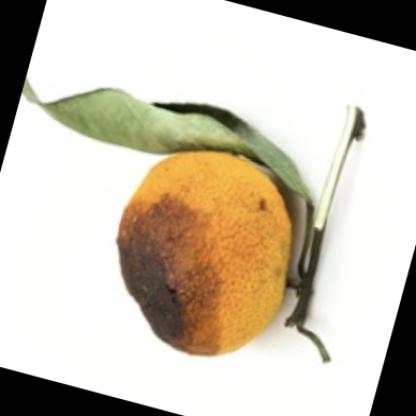rotten: (116, 149, 335, 370)
